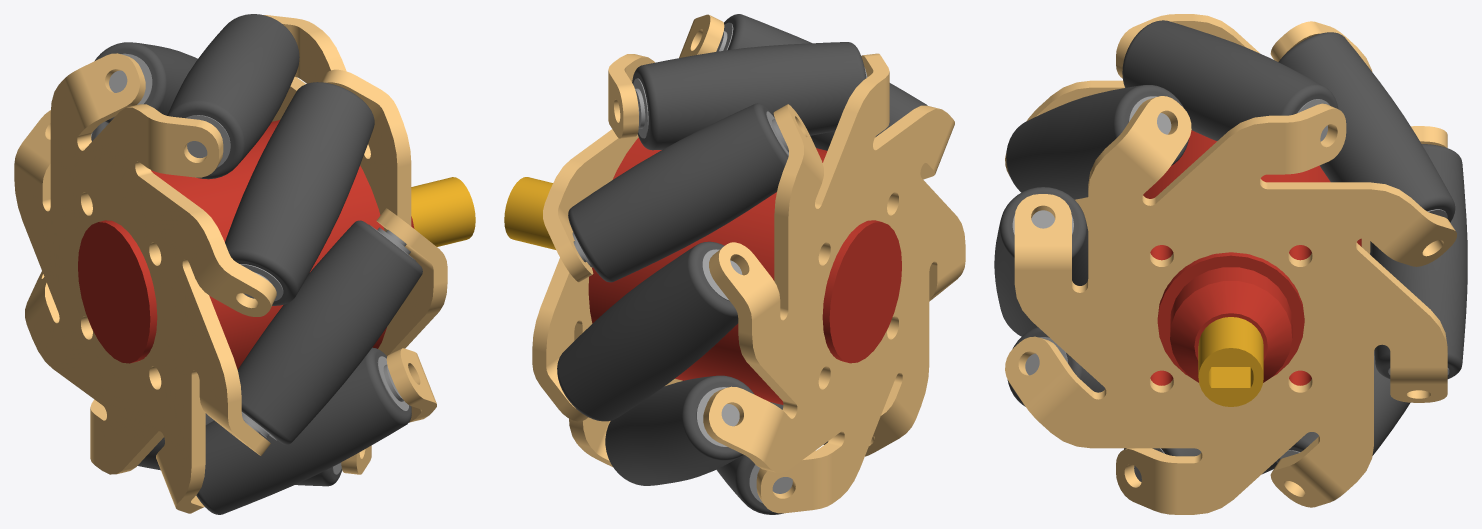
The model's file is rear_left_wheel_link.obj.
3 views of the same model, side by side, from view 1: azimuth 30°, elevation 25°; view 2: azimuth 150°, elevation 25°; view 3: azimuth 270°, elevation 25° (orthographic).
Visible parts, largest first — view 1: Body1:26, Body1:5, Body1:20, Body1, Body1:27, Body1:17, Body1:8, Body1:4, Body1:11, Body1:14, Body1:9, Body1:12 (+1 smaller); view 2: Body1:26, Body1:11, Body1:23, Body1, Body1:8, Body1:27, Body1:1, Body1:20, Body1:4, Body1:14, Body1:3, Body1:10 (+1 smaller); view 3: Body1:27, Body1, Body1:8, Body1:11, Body1:20, Body1:23, Body1:26, Body1:4, Body1:5, Body1:1, Body1:17.
Part boxes in pixels (x1=…): Body1:26: x1=14, y1=53, x2=276, y2=513; Body1:5: x1=237, y1=220, x2=422, y2=444; Body1:20: x1=225, y1=82, x2=374, y2=305; Body1: x1=78, y1=120, x2=414, y2=369; Body1:27: x1=264, y1=15, x2=447, y2=474; Body1:17: x1=196, y1=347, x2=411, y2=514; Body1:8: x1=167, y1=14, x2=299, y2=179; Body1:4: x1=411, y1=177, x2=475, y2=246; Body1:11: x1=95, y1=42, x2=197, y2=123; Body1:14: x1=137, y1=413, x2=342, y2=486; Body1:9: x1=185, y1=115, x2=230, y2=167; Body1:12: x1=109, y1=53, x2=152, y2=104; Body1:26: x1=703, y1=53, x2=965, y2=513; Body1:11: x1=568, y1=103, x2=788, y2=282; Body1:23: x1=557, y1=241, x2=738, y2=421; Body1: x1=588, y1=137, x2=901, y2=404; Body1:8: x1=632, y1=42, x2=866, y2=150; Body1:27: x1=532, y1=14, x2=724, y2=466; Body1:1: x1=605, y1=375, x2=754, y2=485; Body1:20: x1=724, y1=14, x2=927, y2=150; Body1:4: x1=504, y1=177, x2=555, y2=249; Body1:14: x1=683, y1=380, x2=783, y2=514; Body1:3: x1=696, y1=387, x2=739, y2=446; Body1:10: x1=633, y1=78, x2=648, y2=138; Body1:27: x1=1005, y1=96, x2=1456, y2=514; Body1: x1=1143, y1=130, x2=1361, y2=385; Body1:8: x1=1122, y1=20, x2=1338, y2=140; Body1:11: x1=1278, y1=32, x2=1455, y2=222; Body1:20: x1=1006, y1=85, x2=1188, y2=199; Body1:23: x1=1370, y1=144, x2=1467, y2=378; Body1:26: x1=1005, y1=14, x2=1447, y2=254; Body1:4: x1=1198, y1=317, x2=1263, y2=406; Body1:5: x1=994, y1=187, x2=1088, y2=336; Body1:1: x1=1276, y1=351, x2=1410, y2=463; Body1:17: x1=1007, y1=327, x2=1105, y2=406.
Bounding box in the file's own units: 4.95 × 5.79 × 5.8.
